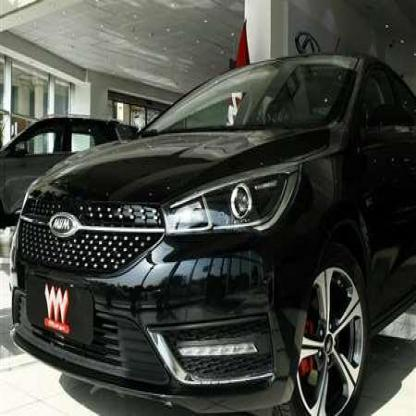Car: (0, 59, 416, 416), (0, 94, 172, 236)
